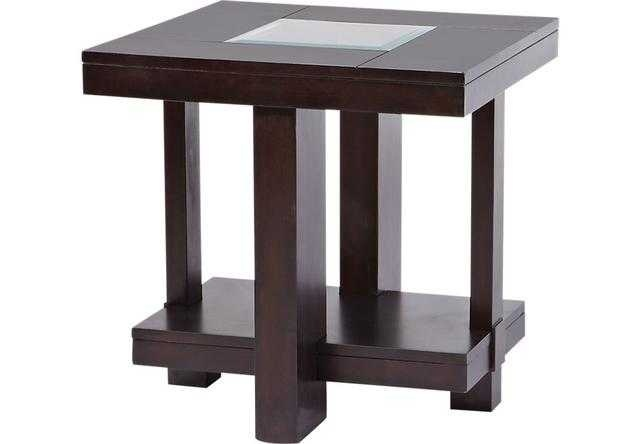obstacle: (82, 2, 557, 441)
